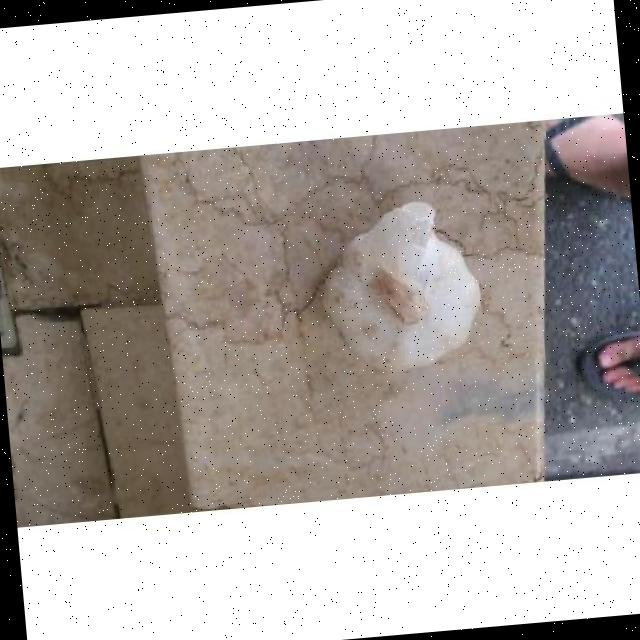garlic: (324, 200, 480, 368)
